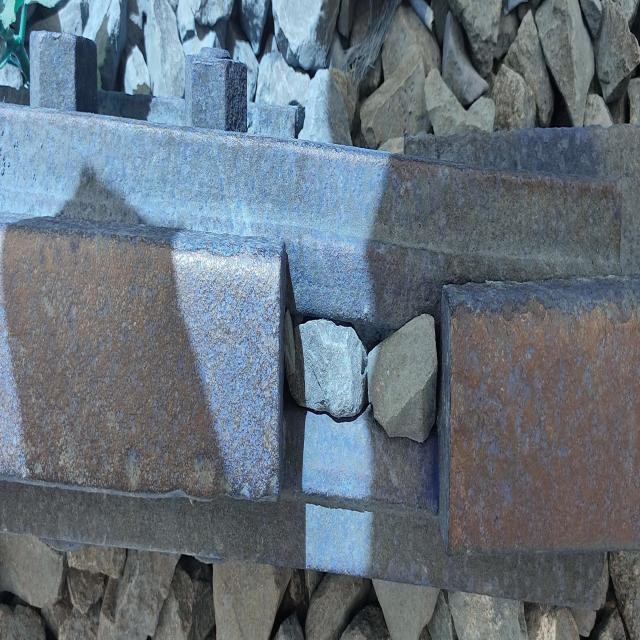broken_rail_high: (262, 118, 463, 572)
